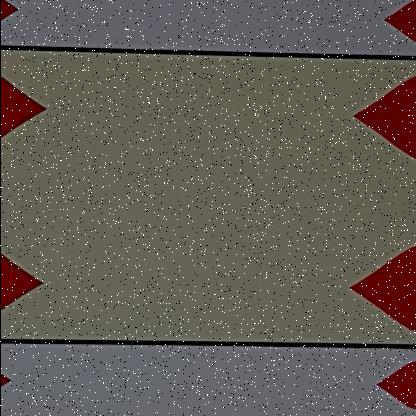4h: (349, 350, 415, 416), (367, 0, 415, 58)
